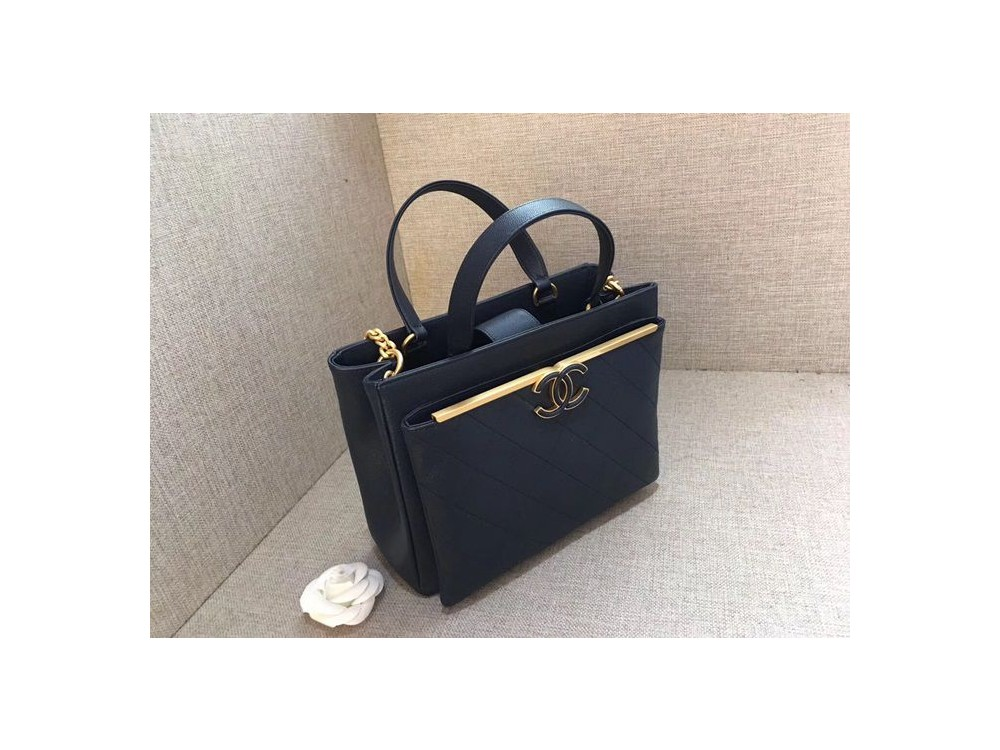channel: (331, 270, 715, 590), (526, 357, 610, 454)
